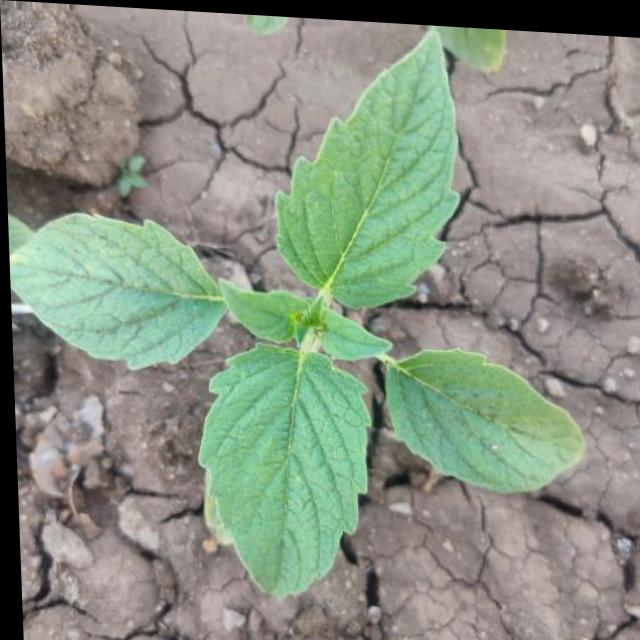crop: (2, 5, 589, 607)
